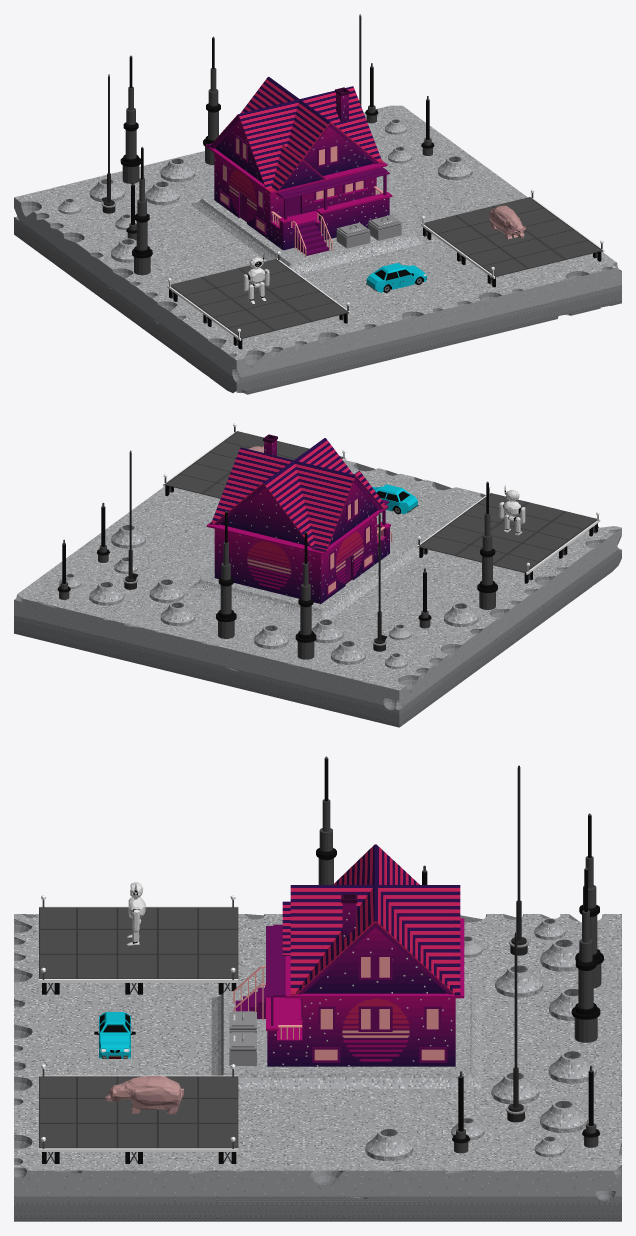
3 views of the same model, one above another, from view 1: azimuth 30°, elevation 25°; view 2: azimuth 150°, elevation 25°; view 3: azimuth 270°, elevation 25° (orthographic). The views are drawn at different scales.
Parts seen in each view (by area): view 1: Cube.027, Cube.156, Cube.025, Cube.026, Cube.028, Cylinder.020, Cylinder.021, VEHICLES_CAR, Cylinder.017, ANIMAL_HIPOPOTAMO, OBJRANDOM_PLATZEEBOT, Cube.029 (+5 smaller); view 2: Cube.027, Cube.156, Cube.025, Cube.028, Cube.026, Cylinder.020, Cylinder.021, Cylinder.017, VEHICLES_CAR, OBJRANDOM_PLATZEEBOT, Cylinder.031, Cylinder.028 (+8 smaller); view 3: Cube.027, Cube.156, Cube.025, Cube.026, Cube.028, Cylinder.017, ANIMAL_HIPOPOTAMO, VEHICLES_CAR, Cylinder.020, Cylinder.021, Cylinder.033, Cylinder.031 (+11 smaller).
Part boxes in pixels (left/top/right/bottom): Cube.027: left=14, top=105, right=621, bottom=394; Cube.156: left=205, top=77, right=392, bottom=256; Cube.025: left=167, top=251, right=350, bottom=349; Cube.026: left=421, top=189, right=604, bottom=287; Cube.028: left=191, top=195, right=424, bottom=274; Cylinder.020: left=120, top=55, right=140, bottom=183; Cylinder.021: left=132, top=146, right=152, bottom=275; VEHICLES_CAR: left=366, top=263, right=427, bottom=292; Cylinder.017: left=203, top=36, right=220, bottom=164; ANIMAL_HIPOPOTAMO: left=489, top=205, right=525, bottom=239; OBJRANDOM_PLATZEEBOT: left=243, top=252, right=269, bottom=303; Cube.029: left=336, top=222, right=370, bottom=248; Cube.027: left=14, top=460, right=621, bottom=727; Cube.156: left=206, top=434, right=392, bottom=603; Cube.025: left=417, top=485, right=600, bottom=583; Cube.028: left=190, top=538, right=419, bottom=620; Cube.026: left=163, top=423, right=346, bottom=498; Cylinder.020: left=295, top=531, right=316, bottom=659; Cylinder.021: left=477, top=481, right=497, bottom=609; Cylinder.017: left=216, top=510, right=236, bottom=638; VEHICLES_CAR: left=372, top=484, right=418, bottom=514; OBJRANDOM_PLATZEEBOT: left=499, top=485, right=525, bottom=535; Cylinder.031: left=89, top=581, right=124, bottom=605; Cylinder.028: left=331, top=640, right=365, bottom=664; Cube.027: left=14, top=914, right=621, bottom=1221; Cube.156: left=233, top=844, right=464, bottom=1066; Cube.025: left=39, top=895, right=238, bottom=994; Cube.026: left=39, top=1064, right=238, bottom=1163; Cube.028: left=211, top=991, right=481, bottom=1088; Cylinder.017: left=571, top=867, right=600, bottom=1042; ANIMAL_HIPOPOTAMO: left=105, top=1076, right=184, bottom=1114; VEHICLES_CAR: left=94, top=1012, right=135, bottom=1058; Cylinder.020: left=575, top=813, right=603, bottom=988; Cylinder.021: left=316, top=756, right=336, bottom=884; Cylinder.033: left=365, top=1128, right=413, bottom=1160; Cylinder.031: left=540, top=1100, right=587, bottom=1132.
Bounding box in the file's own units: 4000 × 1951 × 4000.
35 materials, 6 textured.
